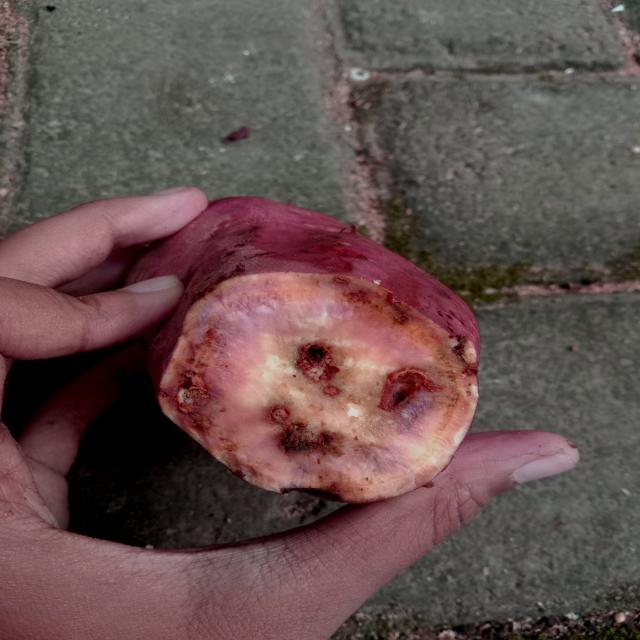Sick Sweet Potato_Tuber Rot: (158, 272, 478, 502)
